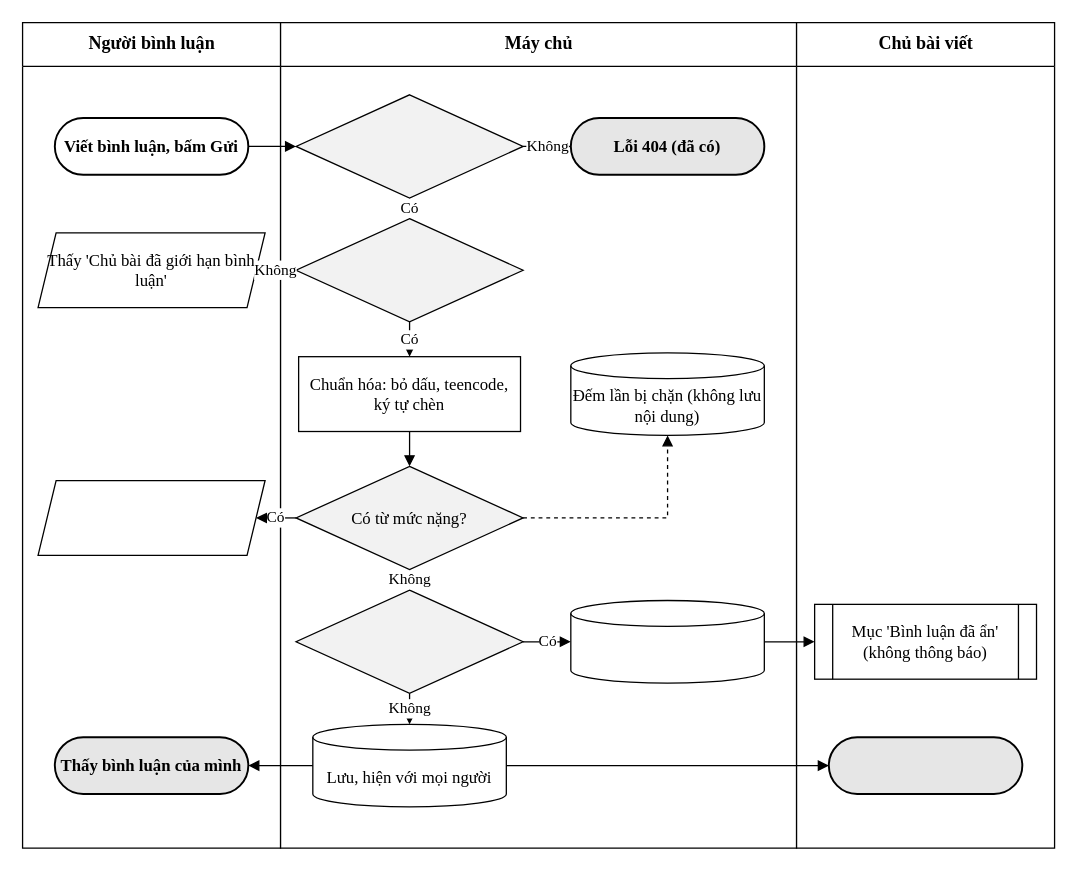
This 1077x871 diagram has some shape labels left out. The shapes that lost their labels are listed below. From the top down, each one's centre as x and y in pixels, then its label:
At point 409,146: "Được xem bài?".
At point 409,269: "Được phép bình luận?".
At point 151,517: "Thấy 'Vi phạm tiêu chuẩn', không đăng".
At point 409,641: "Có lý do phải ẩn?".
At point 667,641: "Lưu, ẩn kèm lý do".
At point 925,765: "Nhận thông báo, thấy bình luận".
